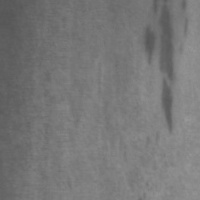inclusion: (148, 4, 190, 102), (155, 73, 182, 137), (140, 25, 159, 69)
